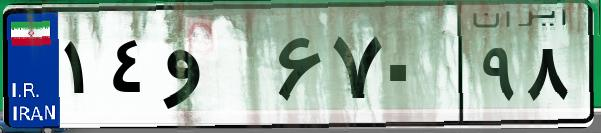0: (385, 28, 445, 110)
1: (57, 26, 110, 100)
4: (110, 28, 158, 98)
6: (270, 28, 330, 110)
7: (330, 28, 385, 110)
8: (525, 38, 570, 115)
9: (475, 38, 525, 113)
و: (158, 20, 270, 120)
